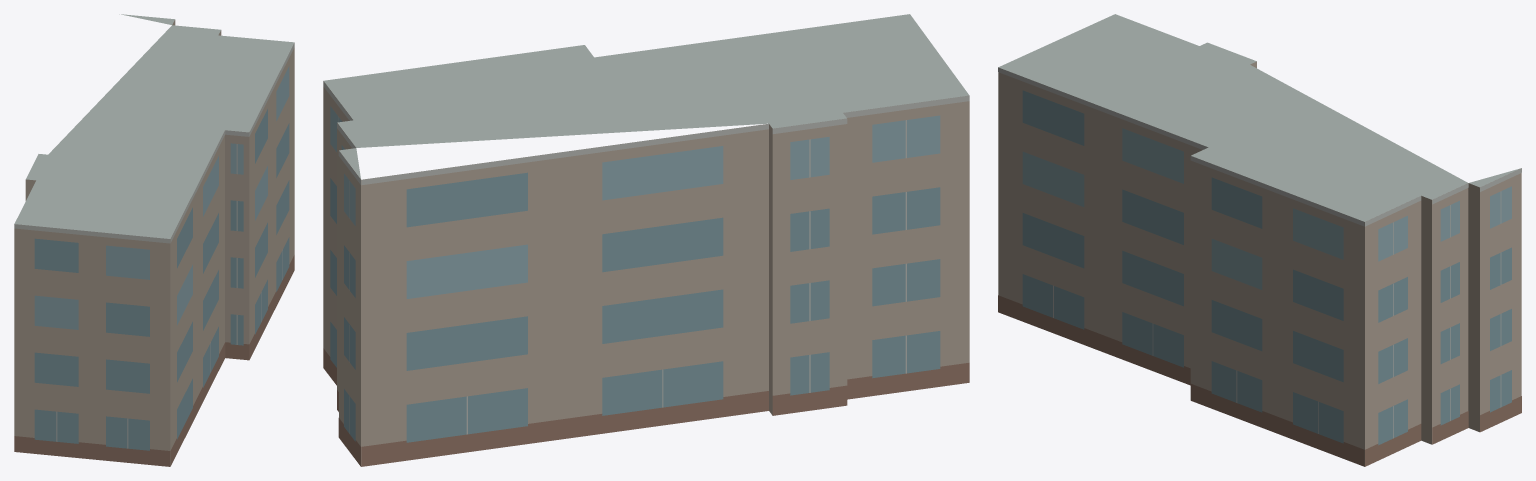
File: survey-upis-32821122.glb
The picture shows the model from 3 angles, left to right: view 1: azimuth 30°, elevation 25°; view 2: azimuth 150°, elevation 25°; view 3: azimuth 270°, elevation 25°; orthographic projection. The views are drawn at different scales.
Parts seen in each view (by area): view 1: survey-upis-32821122.tmp; view 2: survey-upis-32821122.tmp; view 3: survey-upis-32821122.tmp.
Part boxes in pixels (x1,y1,x2,y2): survey-upis-32821122.tmp: (14, 14, 294, 466); survey-upis-32821122.tmp: (323, 14, 969, 466); survey-upis-32821122.tmp: (998, 14, 1521, 466).
Bounding box in the file's own units: 22.77 × 12.5 × 24.23.
